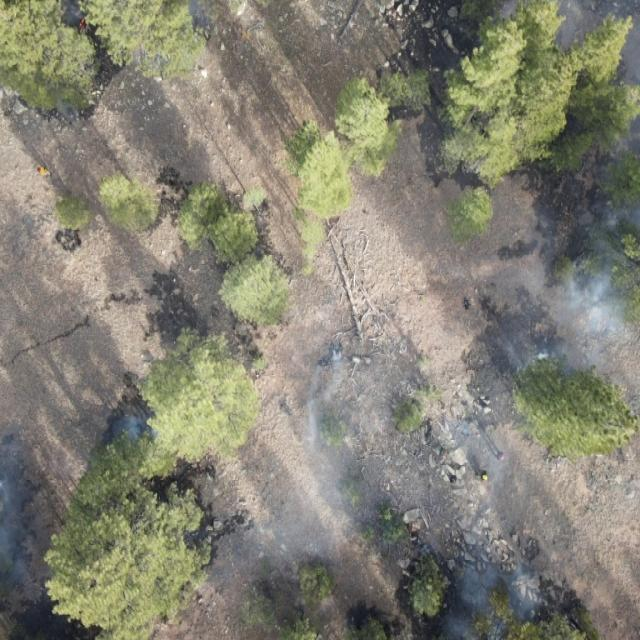fire: (74, 18, 88, 34)
smoke: (241, 307, 545, 640), (492, 0, 640, 372), (53, 0, 207, 79), (0, 465, 37, 587), (102, 404, 176, 464)
